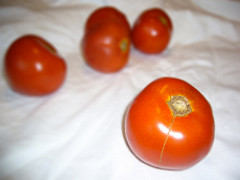tomato: (123, 75, 216, 168), (6, 27, 68, 95), (81, 2, 132, 72), (134, 4, 178, 54)
